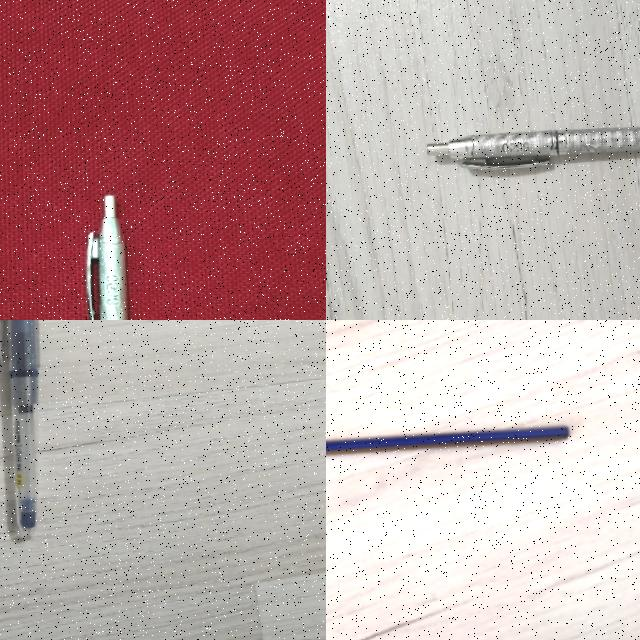pen: (0, 320, 40, 538)
pencil: (326, 426, 567, 454)
signature pen: (427, 128, 639, 170), (86, 197, 129, 320)
